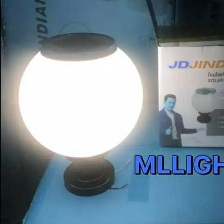book: (149, 20, 223, 151)
light_bulb: (14, 28, 146, 164)
